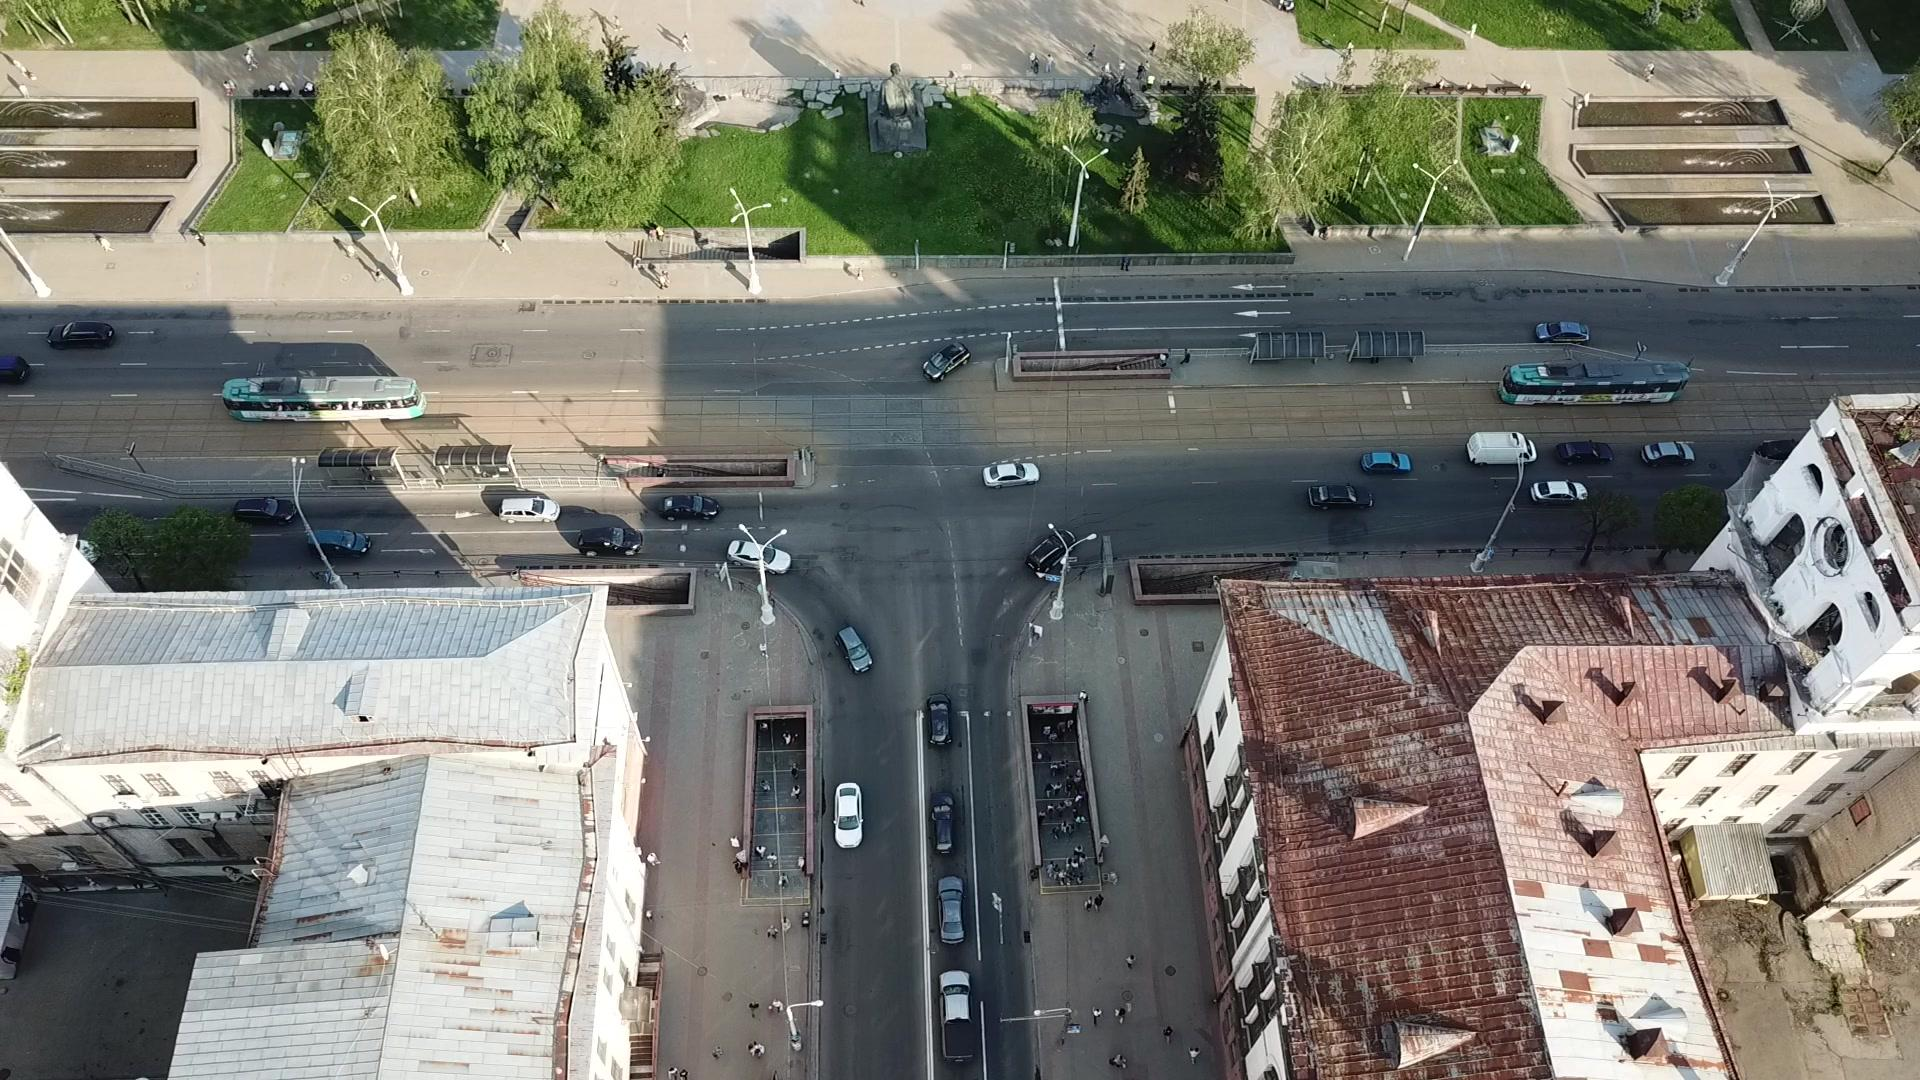car: (939, 970, 975, 1060), (1024, 527, 1077, 578), (726, 538, 792, 575), (920, 340, 971, 382), (45, 319, 115, 348), (577, 526, 643, 556), (834, 781, 863, 848), (835, 625, 874, 674), (305, 526, 370, 555), (1306, 483, 1374, 510), (938, 875, 964, 945), (231, 497, 297, 524), (981, 460, 1041, 489), (929, 791, 957, 853), (660, 493, 721, 520), (500, 496, 559, 523), (1641, 439, 1694, 469), (1529, 478, 1589, 504), (925, 692, 953, 747), (1556, 440, 1615, 464), (1534, 320, 1591, 343), (1360, 451, 1412, 475)
